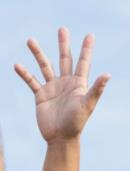down: (14, 26, 111, 143)
